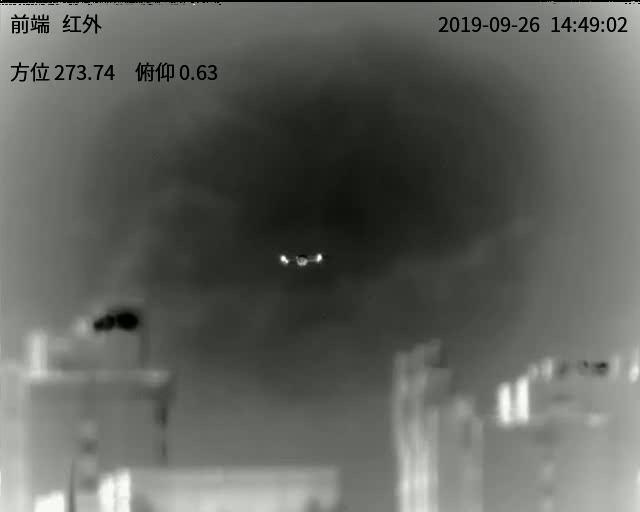DRONE: (278, 251, 323, 268)
